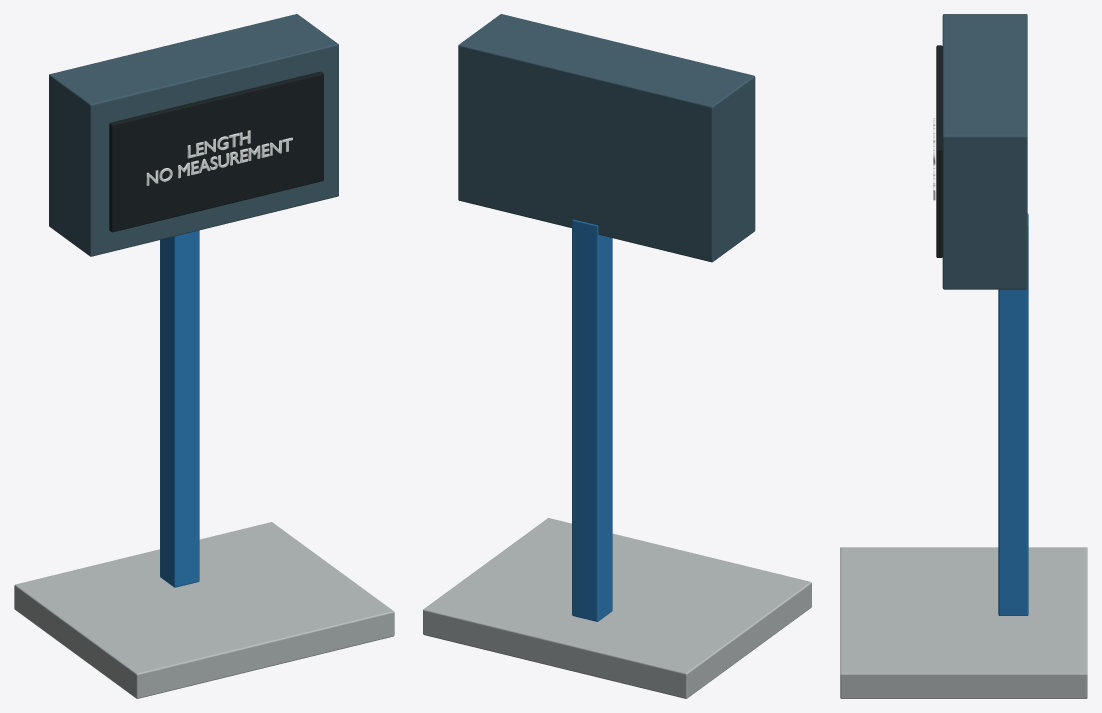
The model's file is cut_length_display.glb.
3 views of the same model, side by side, from view 1: azimuth 30°, elevation 25°; view 2: azimuth 150°, elevation 25°; view 3: azimuth 270°, elevation 25° (orthographic). The views are drawn at different scales.
Parts seen in each view (by area): view 1: LENGTH_DISPLAY_base, LENGTH_DISPLAY_housing, LENGTH_DISPLAY_screen, LENGTH_DISPLAY_mast, LENGTH_DISPLAY_static_legend; view 2: LENGTH_DISPLAY_housing, LENGTH_DISPLAY_base, LENGTH_DISPLAY_mast; view 3: LENGTH_DISPLAY_base, LENGTH_DISPLAY_housing, LENGTH_DISPLAY_mast, LENGTH_DISPLAY_screen.
Boxes of the visible parts, x1,y1,x2,y2 form: LENGTH_DISPLAY_base: (14,522,394,698); LENGTH_DISPLAY_housing: (49,14,338,256); LENGTH_DISPLAY_screen: (109,71,323,232); LENGTH_DISPLAY_mast: (160,230,199,587); LENGTH_DISPLAY_static_legend: (146,130,292,185); LENGTH_DISPLAY_housing: (458,14,755,262); LENGTH_DISPLAY_base: (423,518,811,698); LENGTH_DISPLAY_mast: (572,219,612,621); LENGTH_DISPLAY_base: (840,547,1087,698); LENGTH_DISPLAY_housing: (942,14,1027,289); LENGTH_DISPLAY_mast: (998,213,1028,615); LENGTH_DISPLAY_screen: (936,45,942,257).
Size of the model in its own units: 0.85 by 1.75 by 0.7.
